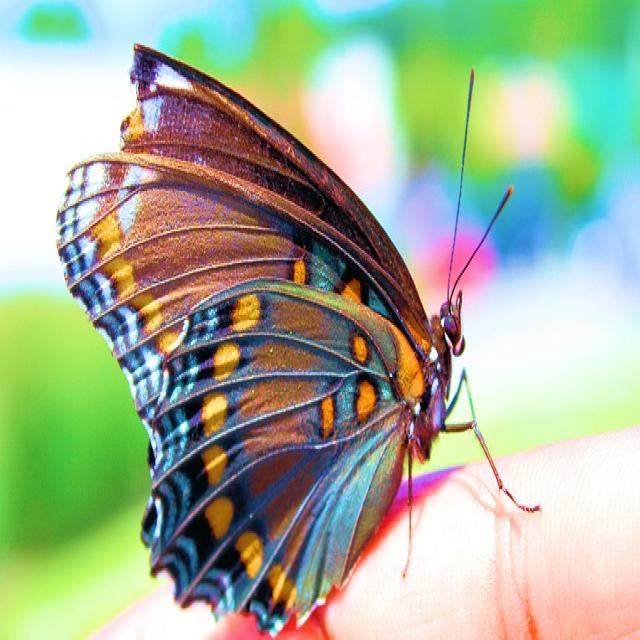butterfly: (54, 44, 469, 640)
